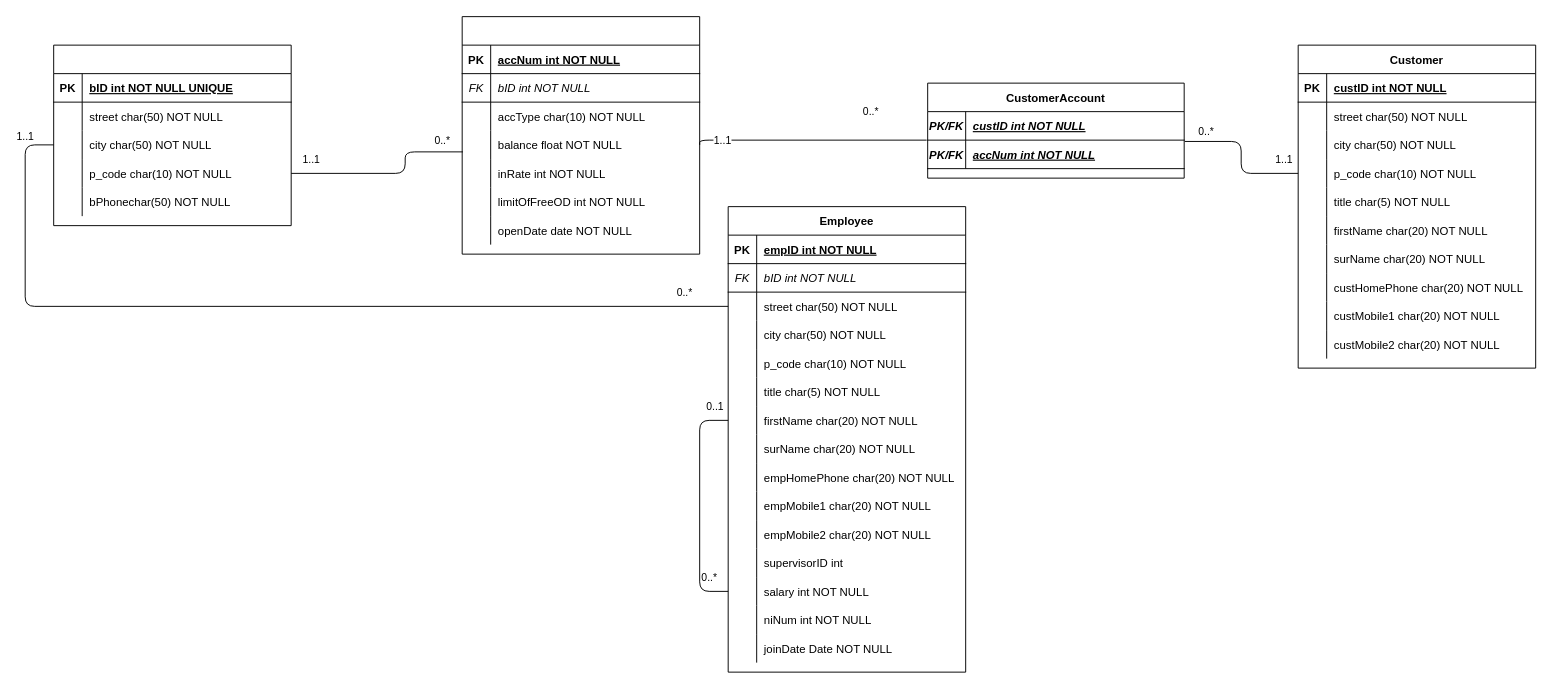
Image size: 1552x689. Some labels were removed from this diagram. The box of each missing label's shape, as (x1, y1, x2, y2) in pixels:
Account: (461, 16, 700, 254)
Branch: (53, 44, 291, 226)
